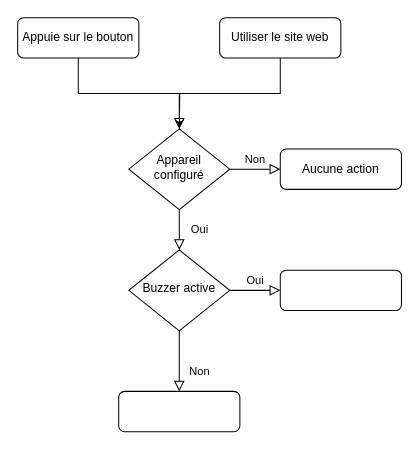
Image size: 419x449. Some labels were removed from this diagram. The shapes that lost their labels are listed below. From the top down, each one's box as (x1, y1, x2, y2) in pixels, then its label:
(279, 269, 401, 311): Eteint
(118, 390, 240, 432): Active
